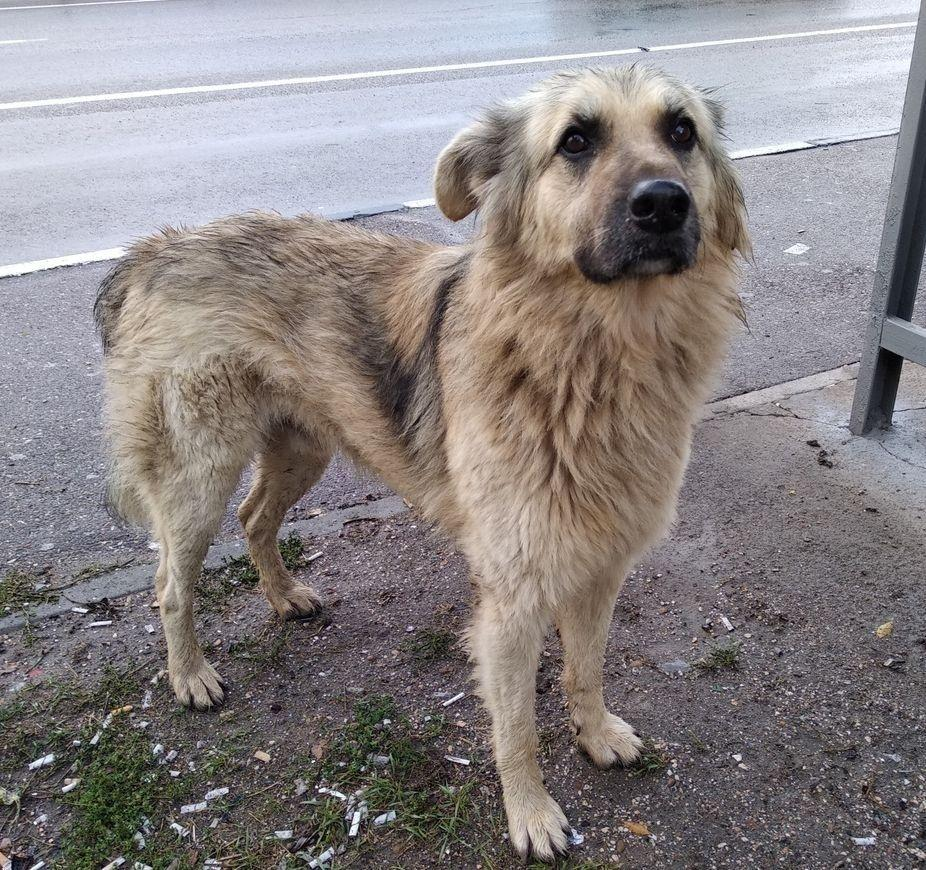dog: (95, 66, 747, 858)
